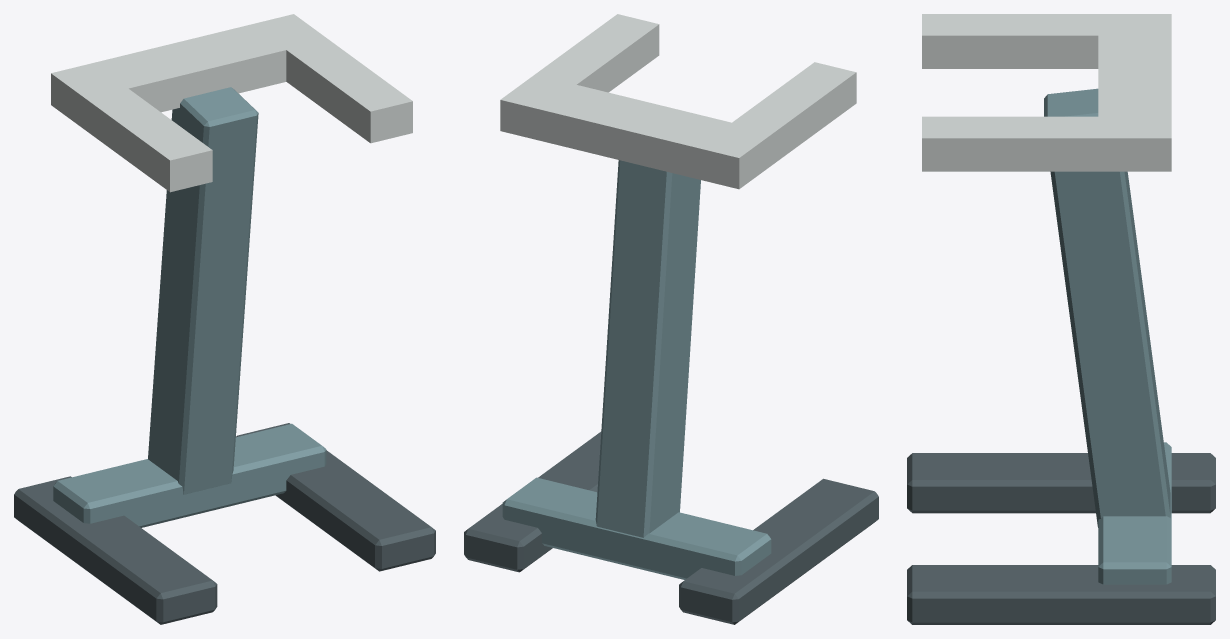
3 views of the same model, side by side, from view 1: azimuth 30°, elevation 25°; view 2: azimuth 150°, elevation 25°; view 3: azimuth 270°, elevation 25° (orthographic). The views are drawn at different scales.
Parts seen in each view (by area): view 1: Rearward slanted central support, Continuous open fork bearing head, Rear base cross link, Low stable foot -0.18, Low stable foot 0.18; view 2: Rearward slanted central support, Continuous open fork bearing head, Rear base cross link, Low stable foot -0.18, Low stable foot 0.18; view 3: Continuous open fork bearing head, Rearward slanted central support, Low stable foot 0.18, Low stable foot -0.18, Rear base cross link.
Boxes of the visible parts, x1,y1,x2,y2 form: Rearward slanted central support: (148, 87, 258, 494); Continuous open fork bearing head: (51, 14, 412, 192); Rear base cross link: (53, 423, 326, 527); Low stable foot -0.18: (14, 476, 217, 624); Low stable foot 0.18: (236, 423, 435, 571); Rearward slanted central support: (595, 160, 700, 537); Continuous open fork bearing head: (500, 14, 856, 189); Rear base cross link: (502, 477, 771, 579); Low stable foot -0.18: (679, 478, 878, 624); Low stable foot 0.18: (464, 431, 601, 572); Continuous open fork bearing head: (922, 14, 1171, 171); Rearward slanted central support: (1044, 88, 1170, 527); Low stable foot 0.18: (907, 565, 1215, 624); Low stable foot -0.18: (907, 453, 1215, 513); Rear base cross link: (1098, 442, 1171, 584).
Size of the model in its own units: 0.46 by 0.72 by 0.42.
